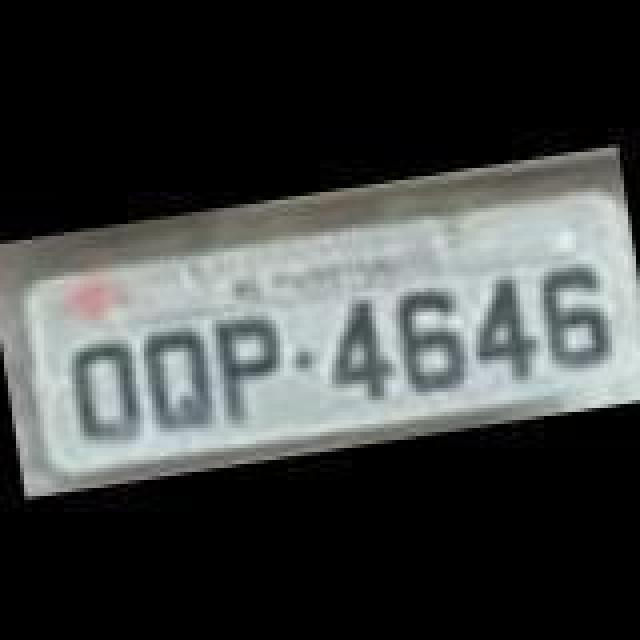4: (320, 292, 400, 412), (464, 270, 544, 386)
6: (530, 262, 614, 378), (390, 280, 474, 392)
O: (62, 330, 146, 446)
P: (208, 310, 288, 426)
Q: (134, 324, 218, 436)
